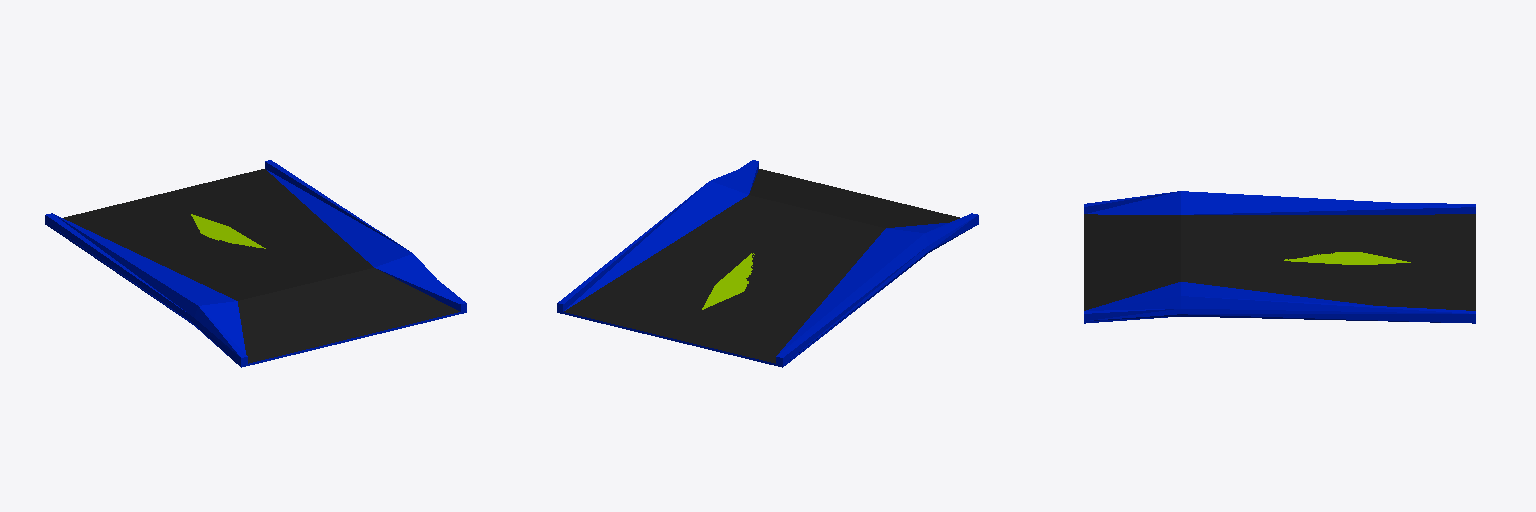
File: BoostPad.obj
3 views of the same model, side by side, from view 1: azimuth 30°, elevation 25°; view 2: azimuth 150°, elevation 25°; view 3: azimuth 270°, elevation 25° (orthographic).
Visible parts, largest first — view 1: BoostPad; view 2: BoostPad; view 3: BoostPad.
Part boxes in pixels (bbox=[...]): BoostPad: bbox=[45, 160, 466, 367]; BoostPad: bbox=[557, 160, 978, 367]; BoostPad: bbox=[1084, 191, 1475, 323].
Size of the model in its own units: 2 by 0.2135 by 3.01.